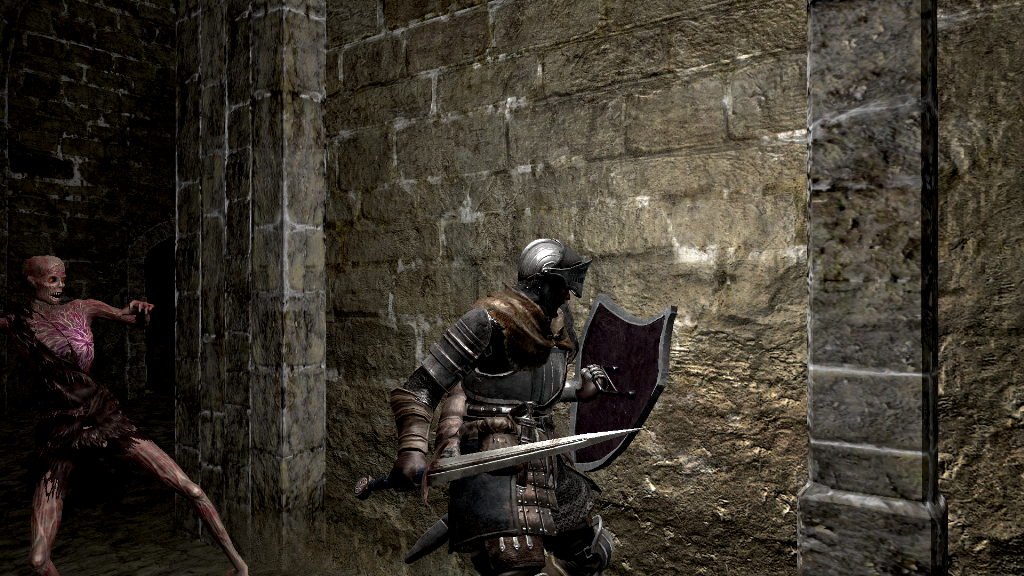hollow: (1, 254, 249, 576)
player: (352, 237, 679, 576)
